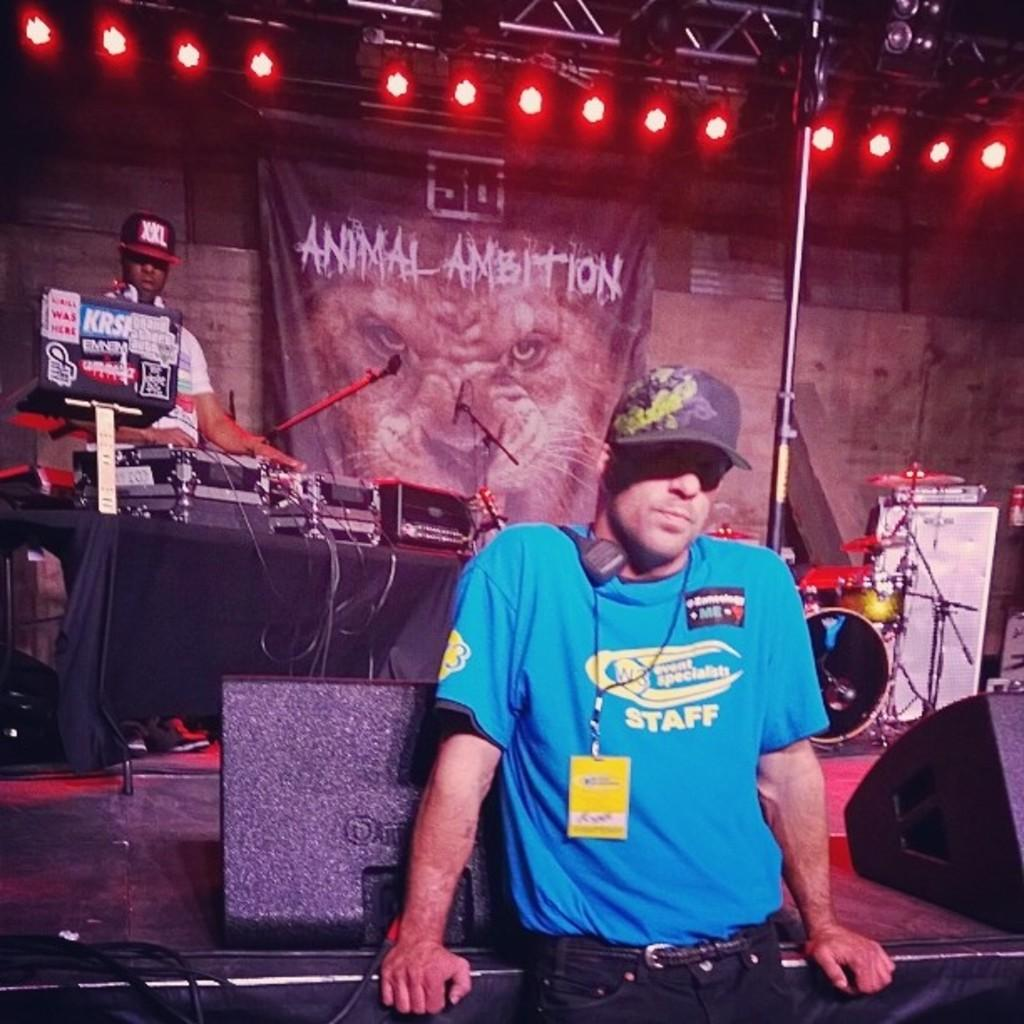Hat: (598, 360, 750, 470), (114, 213, 188, 267)
